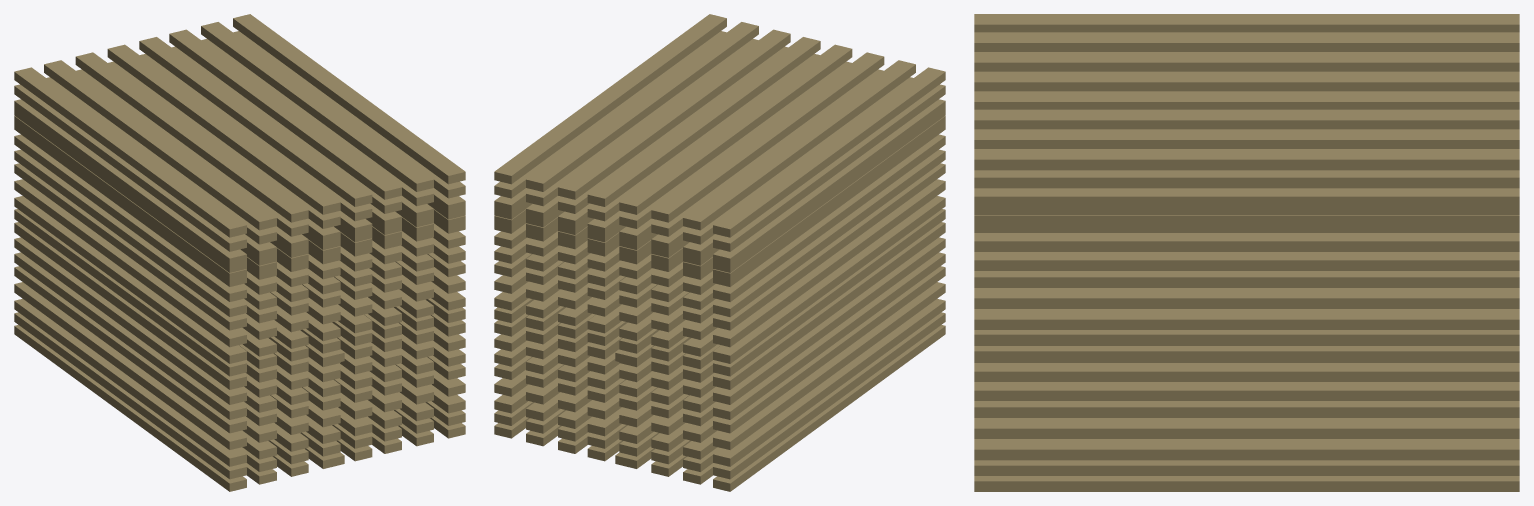
Rendered from long-load.dae.
3 views of the same model, side by side, from view 1: azimuth 30°, elevation 25°; view 2: azimuth 150°, elevation 25°; view 3: azimuth 270°, elevation 25° (orthographic). The views are drawn at different scales.
Visible parts, largest first — view 1: Cube_181, Cube_176, Cube_180, Cube_182, Cube_177, Cube_178, Cube_179, Cube_183, Cube_126, Cube_026, Cube_127, Cube_027 (+68 smaller); view 2: Cube_181, Cube_176, Cube_180, Cube_182, Cube_177, Cube_178, Cube_179, Cube_183, Cube_126, Cube_026, Cube_127, Cube_027 (+70 smaller); view 3: Cube_022, Cube_179, Cube_031, Cube_122, Cube_131, Cube_177, Cube_180, Cube_178, Cube_181, Cube_182, Cube_047, Cube_054 (+17 smaller).
Boxes of the visible parts, x1=… form: Cube_181: x1=75, y1=52, x2=308, y2=222; Cube_176: x1=139, y1=37, x2=372, y2=206; Cube_180: x1=107, y1=44, x2=340, y2=214; Cube_182: x1=44, y1=60, x2=276, y2=230; Cube_177: x1=169, y1=29, x2=401, y2=199; Cube_178: x1=201, y1=22, x2=433, y2=191; Cube_179: x1=233, y1=14, x2=465, y2=184; Cube_183: x1=14, y1=67, x2=246, y2=237; Cube_126: x1=14, y1=179, x2=246, y2=347; Cube_026: x1=14, y1=298, x2=246, y2=466; Cube_127: x1=14, y1=196, x2=246, y2=363; Cube_027: x1=14, y1=282, x2=246, y2=449; Cube_181: x1=651, y1=52, x2=884, y2=222; Cube_176: x1=587, y1=37, x2=820, y2=206; Cube_180: x1=619, y1=44, x2=852, y2=214; Cube_182: x1=683, y1=60, x2=915, y2=230; Cube_177: x1=558, y1=29, x2=790, y2=199; Cube_178: x1=526, y1=22, x2=758, y2=191; Cube_179: x1=494, y1=14, x2=726, y2=184; Cube_183: x1=713, y1=67, x2=945, y2=237; Cube_126: x1=713, y1=179, x2=945, y2=347; Cube_026: x1=713, y1=298, x2=945, y2=466; Cube_127: x1=713, y1=196, x2=945, y2=363; Cube_027: x1=713, y1=282, x2=945, y2=449; Cube_022: x1=974, y1=439, x2=1519, y2=460; Cube_179: x1=974, y1=149, x2=1519, y2=170; Cube_031: x1=974, y1=418, x2=1519, y2=438; Cube_122: x1=974, y1=288, x2=1519, y2=308; Cube_131: x1=974, y1=309, x2=1519, y2=329; Cube_177: x1=974, y1=109, x2=1519, y2=129; Cube_180: x1=974, y1=71, x2=1519, y2=91; Cube_178: x1=974, y1=129, x2=1519, y2=148; Cube_181: x1=974, y1=52, x2=1519, y2=71; Cube_182: x1=974, y1=32, x2=1519, y2=51; Cube_047: x1=974, y1=382, x2=1519, y2=400; Cube_054: x1=974, y1=363, x2=1519, y2=381.
Bounding box in the file's own units: 1.16 × 1.83 × 1.23.
